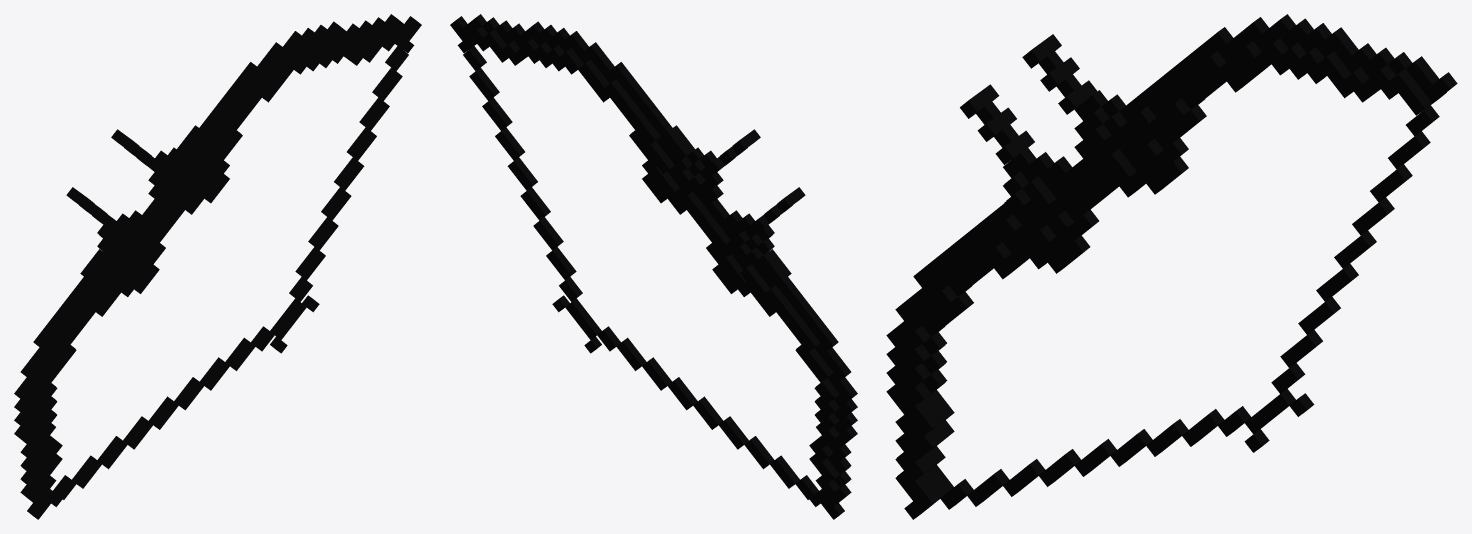
The model's file is chaotic_bow01.obj.
3 views of the same model, side by side, from view 1: azimuth 30°, elevation 25°; view 2: azimuth 150°, elevation 25°; view 3: azimuth 330°, elevation 25° (orthographic). The views are drawn at different scales.
Visible parts, largest first — view 1: chaotic_bow01; view 2: chaotic_bow01; view 3: chaotic_bow01.
Boxes of the visible parts, x1=… form: chaotic_bow01: x1=14, y1=14, x2=421, y2=519; chaotic_bow01: x1=450, y1=14, x2=857, y2=519; chaotic_bow01: x1=886, y1=14, x2=1457, y2=519.
Bounding box in the file's own units: 1.67 × 1.67 × 0.1875.
